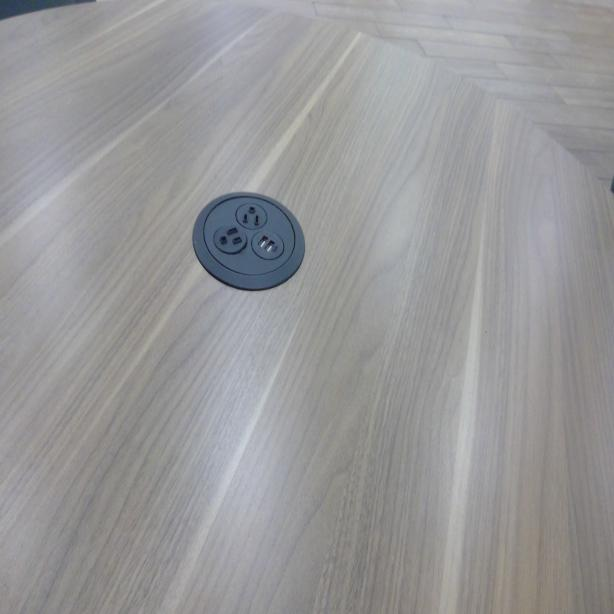typeb: (214, 222, 242, 254), (242, 200, 262, 231)
